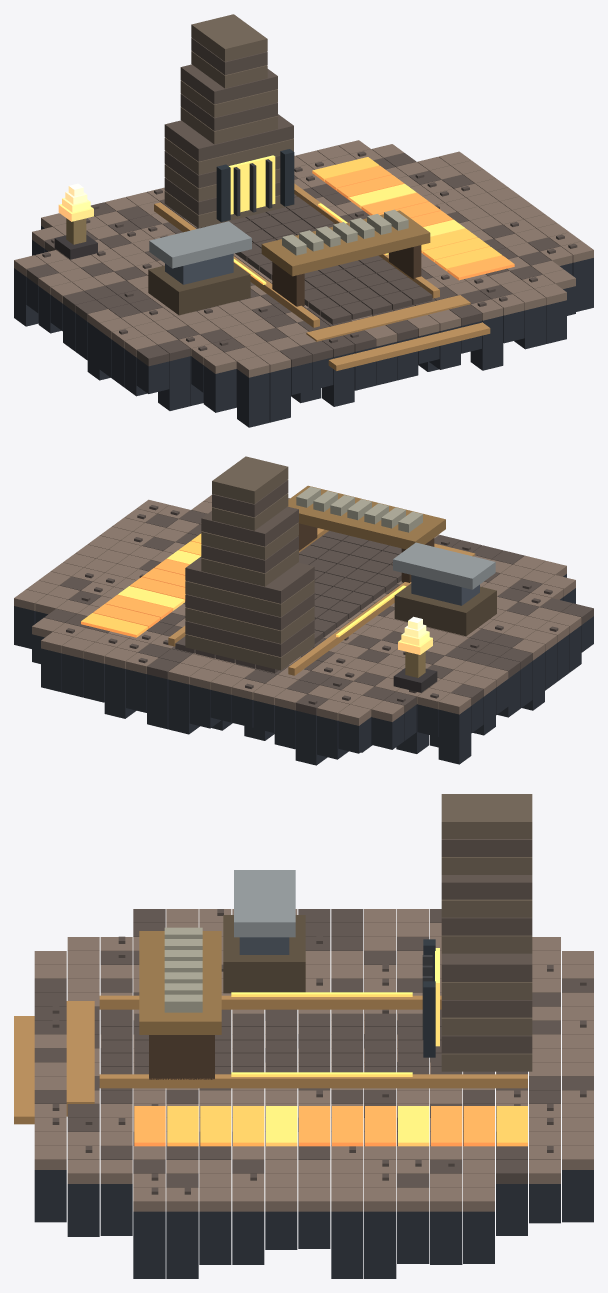
Rendered from preview-forge.glb.
3 views of the same model, one above another, from view 1: azimuth 30°, elevation 25°; view 2: azimuth 150°, elevation 25°; view 3: azimuth 270°, elevation 25° (orthographic). The views are drawn at different scales.
Parts seen in each view (by area): view 1: Terrain, Floating_Bedrock, Brick_Furnace, Causeway, Molten_Channel, Workbench, Anvil, Front_Stairs, Anvil_Base, Furnace_Grate, Metal_Ingots, Causeway_Edge (+4 smaller); view 2: Terrain, Floating_Bedrock, Brick_Furnace, Causeway, Molten_Channel, Anvil, Workbench, Anvil_Base, Metal_Ingots, Causeway_Edge, Surface_Chips, Brazier (+1 smaller); view 3: Terrain, Floating_Bedrock, Brick_Furnace, Molten_Channel, Causeway, Causeway_Edge, Workbench, Front_Stairs, Anvil, Anvil_Base, Metal_Ingots, Surface_Chips (+2 smaller).
Part boxes in pixels (left/top/right/bottom): Terrain: left=14, top=140, right=593, bottom=377; Floating_Bedrock: left=14, top=226, right=593, bottom=427; Brick_Furnace: left=164, top=14, right=293, bottom=228; Causeway: left=201, top=194, right=432, bottom=324; Molten_Channel: left=312, top=157, right=514, bottom=280; Workbench: left=261, top=210, right=430, bottom=306; Anvil: left=149, top=221, right=251, bottom=284; Front_Stairs: left=306, top=295, right=490, bottom=370; Anvil_Base: left=148, top=262, right=250, bottom=315; Furnace_Grate: left=216, top=149, right=294, bottom=222; Metal_Ingots: left=282, top=209, right=408, bottom=255; Causeway_Edge: left=154, top=183, right=439, bottom=327; Terrain: left=14, top=495, right=593, bottom=725; Floating_Bedrock: left=14, top=574, right=593, bottom=765; Brick_Furnace: left=185, top=456, right=314, bottom=670; Causeway: left=175, top=530, right=401, bottom=672; Molten_Channel: left=81, top=533, right=201, bottom=637; Anvil: left=393, top=542, right=495, bottom=605; Workbench: left=288, top=485, right=445, bottom=582; Anvil_Base: left=394, top=583, right=496, bottom=636; Metal_Ingots: left=296, top=486, right=422, bottom=532; Causeway_Edge: left=168, top=528, right=411, bottom=675; Surface_Chips: left=66, top=505, right=558, bottom=704; Brazier: left=393, top=651, right=437, bottom=692; Terrain: left=34, top=909, right=593, bottom=1211; Floating_Bedrock: left=34, top=1170, right=593, bottom=1278; Brick_Furnace: left=441, top=794, right=532, bottom=1071; Molten_Channel: left=134, top=1106, right=527, bottom=1146; Causeway: left=101, top=1013, right=527, bottom=1074; Causeway_Edge: left=99, top=995, right=527, bottom=1088; Workbench: left=139, top=931, right=221, bottom=1079; Front_Stairs: left=14, top=1001, right=94, bottom=1124; Anvil: left=234, top=870, right=295, bottom=954; Anvil_Base: left=223, top=915, right=305, bottom=993; Metal_Ingots: left=164, top=927, right=202, bottom=1012; Surface_Chips: left=52, top=909, right=586, bottom=1194.
Size of the model in its own units: 8.39 by 4.26 by 7.04.
